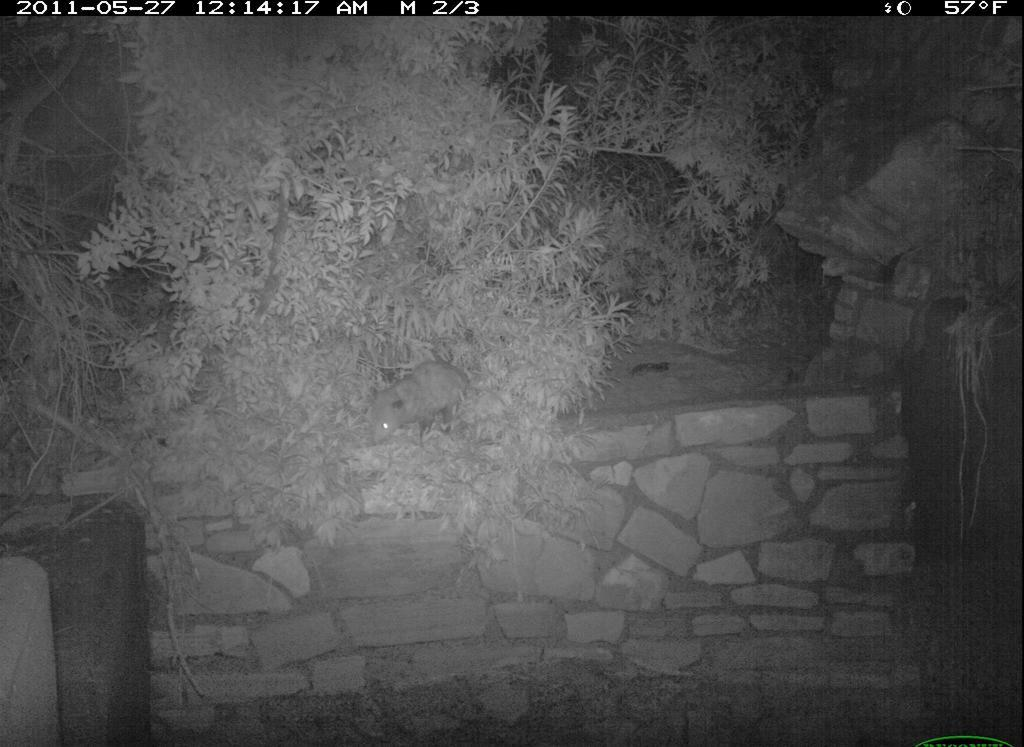opossum: (364, 354, 495, 461)
